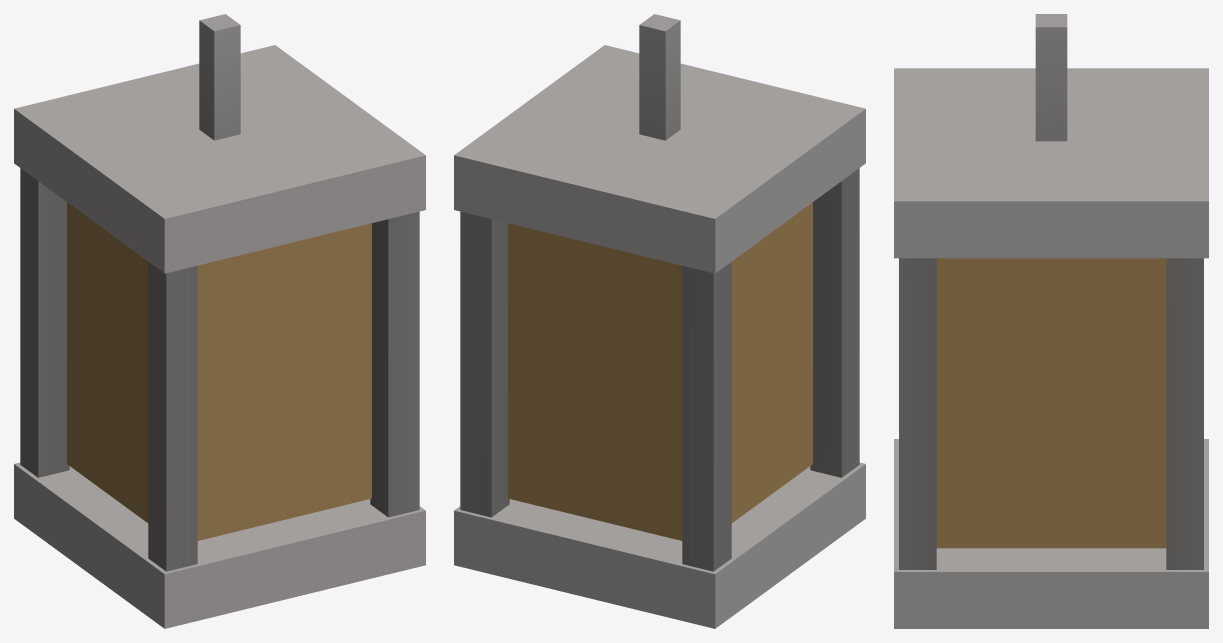
Rendered from kit_lamp.glb.
3 views of the same model, side by side, from view 1: azimuth 30°, elevation 25°; view 2: azimuth 150°, elevation 25°; view 3: azimuth 270°, elevation 25° (orthographic). The views are drawn at different scales.
Visible parts, largest first — view 1: kit_lamp; view 2: kit_lamp; view 3: kit_lamp.
Boxes of the visible parts, x1,y1,x2,y2 form: kit_lamp: (14,14,425,628); kit_lamp: (454,14,865,628); kit_lamp: (894,14,1208,628).
Size of the model in its own units: 0.2 by 0.38 by 0.2.
